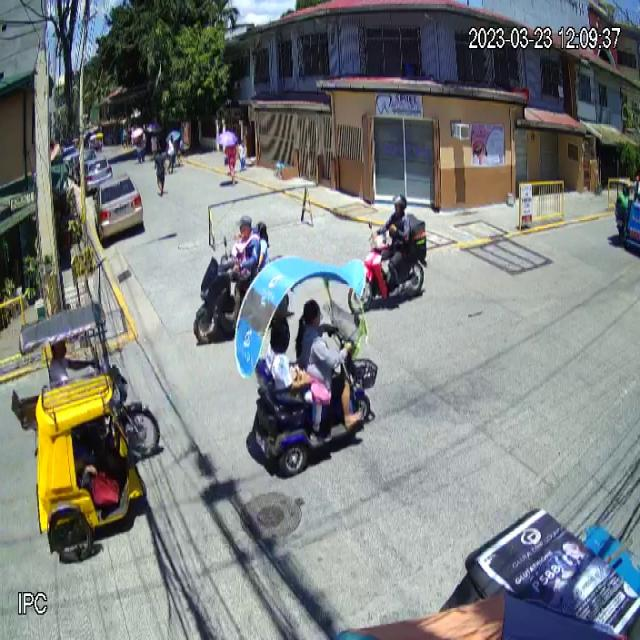Car: (93, 173, 144, 244)
Motorcycle: (193, 235, 265, 342), (348, 222, 428, 314)
Tricycle: (11, 302, 159, 563)
